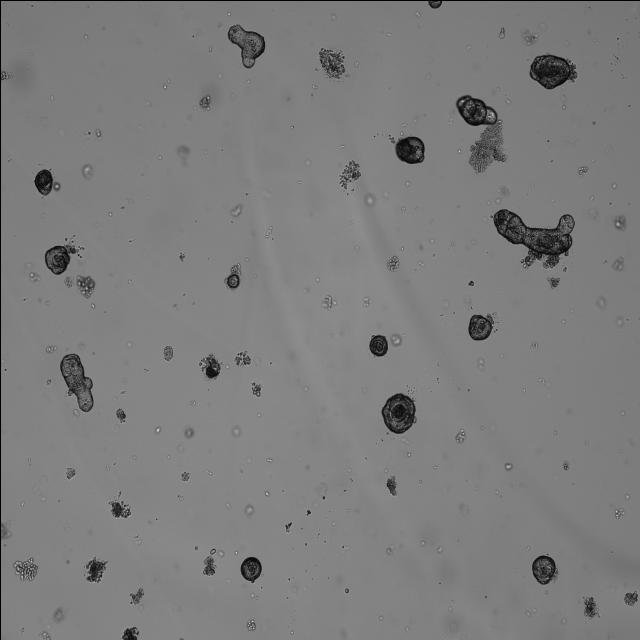alive: (488, 204, 574, 268), (56, 351, 94, 414), (223, 16, 269, 68), (528, 49, 576, 91), (377, 388, 419, 434), (452, 90, 497, 126), (393, 134, 427, 164), (529, 550, 556, 584), (42, 243, 70, 273), (467, 312, 492, 342), (32, 166, 54, 198), (239, 555, 262, 581), (366, 334, 389, 356), (224, 268, 240, 288), (425, 0, 443, 8)
dead: (316, 44, 348, 78), (338, 154, 360, 191), (83, 554, 109, 584), (10, 558, 40, 584), (200, 354, 223, 379), (108, 498, 134, 520), (75, 275, 97, 300), (200, 554, 218, 578), (120, 621, 142, 640), (582, 594, 598, 620)
